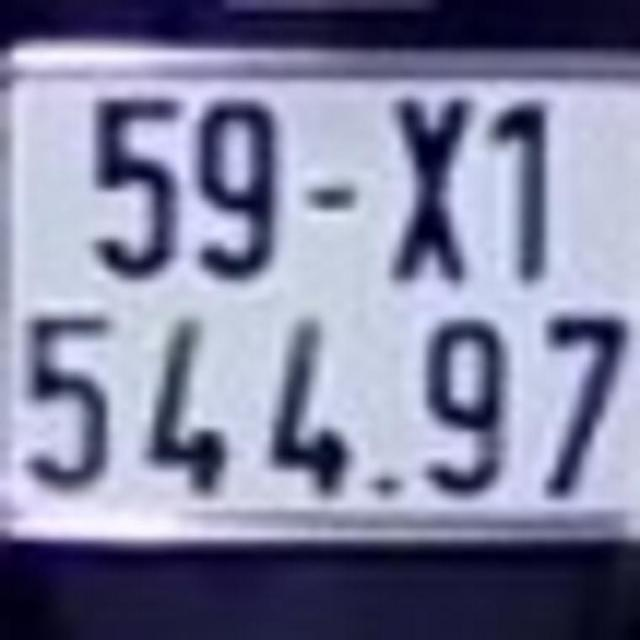1: (485, 96, 559, 287)
4: (138, 312, 234, 495), (263, 305, 353, 497)
5: (86, 88, 183, 279), (20, 304, 113, 495)
7: (530, 308, 634, 507)
9: (193, 93, 288, 284), (419, 308, 512, 500)
X: (382, 84, 480, 287)
